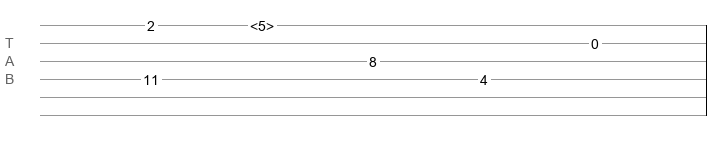0: (591, 36, 599, 46)
11: (143, 72, 159, 82)
2: (147, 18, 155, 28)
4: (480, 72, 488, 82)
8: (369, 54, 377, 64)
harmonic: (250, 18, 274, 28)
